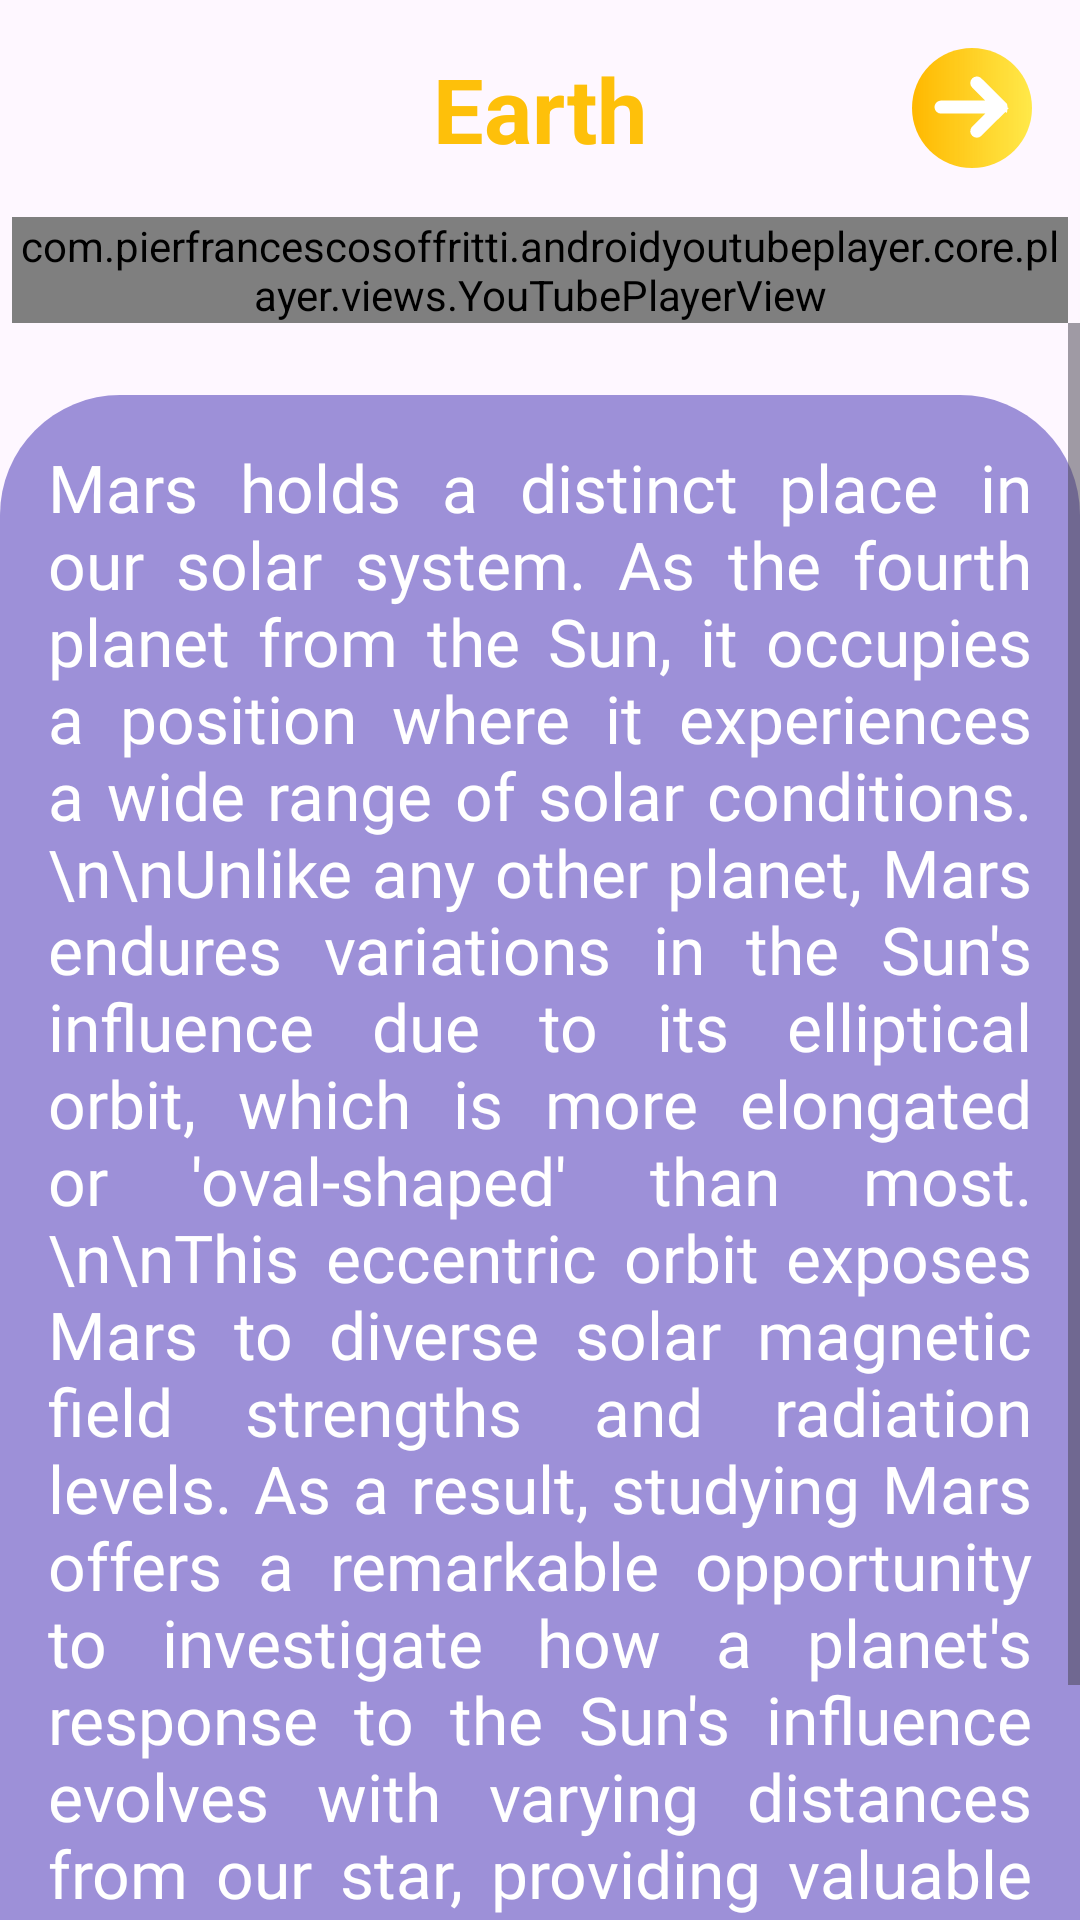

Icon bounding boxes for this 1080x1920 phone screenshot, format detection(x1, y1, x2, y2):
next: detection(912, 48, 1032, 168)
